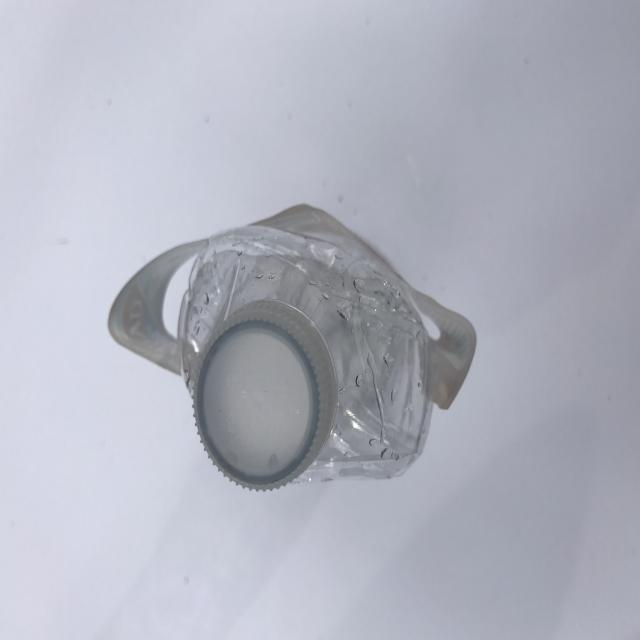plastic: (108, 202, 477, 492)
